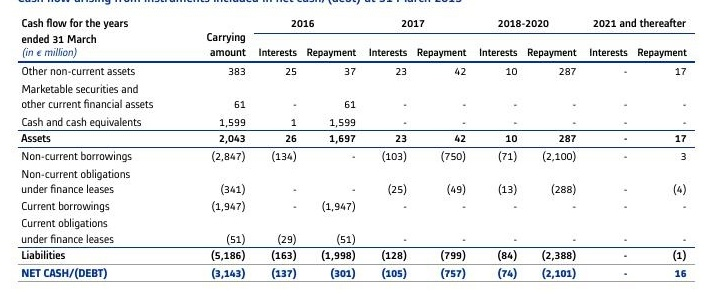table: (0, 0, 719, 298)
